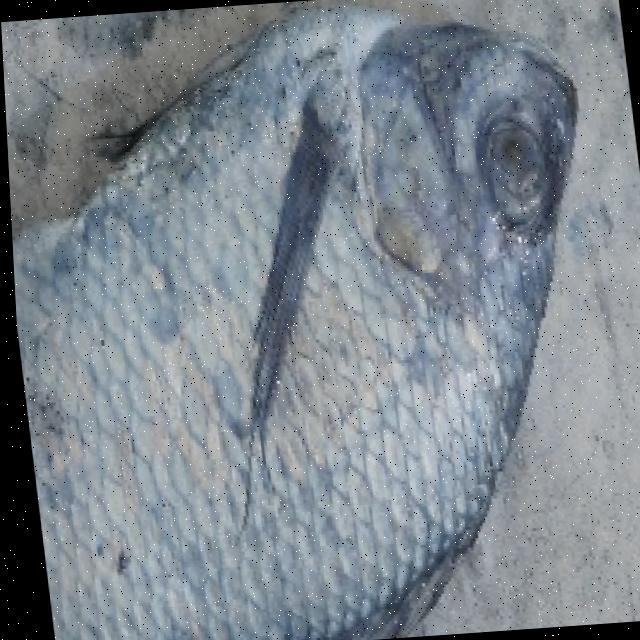Non-Fresh: (416, 90, 571, 251)
